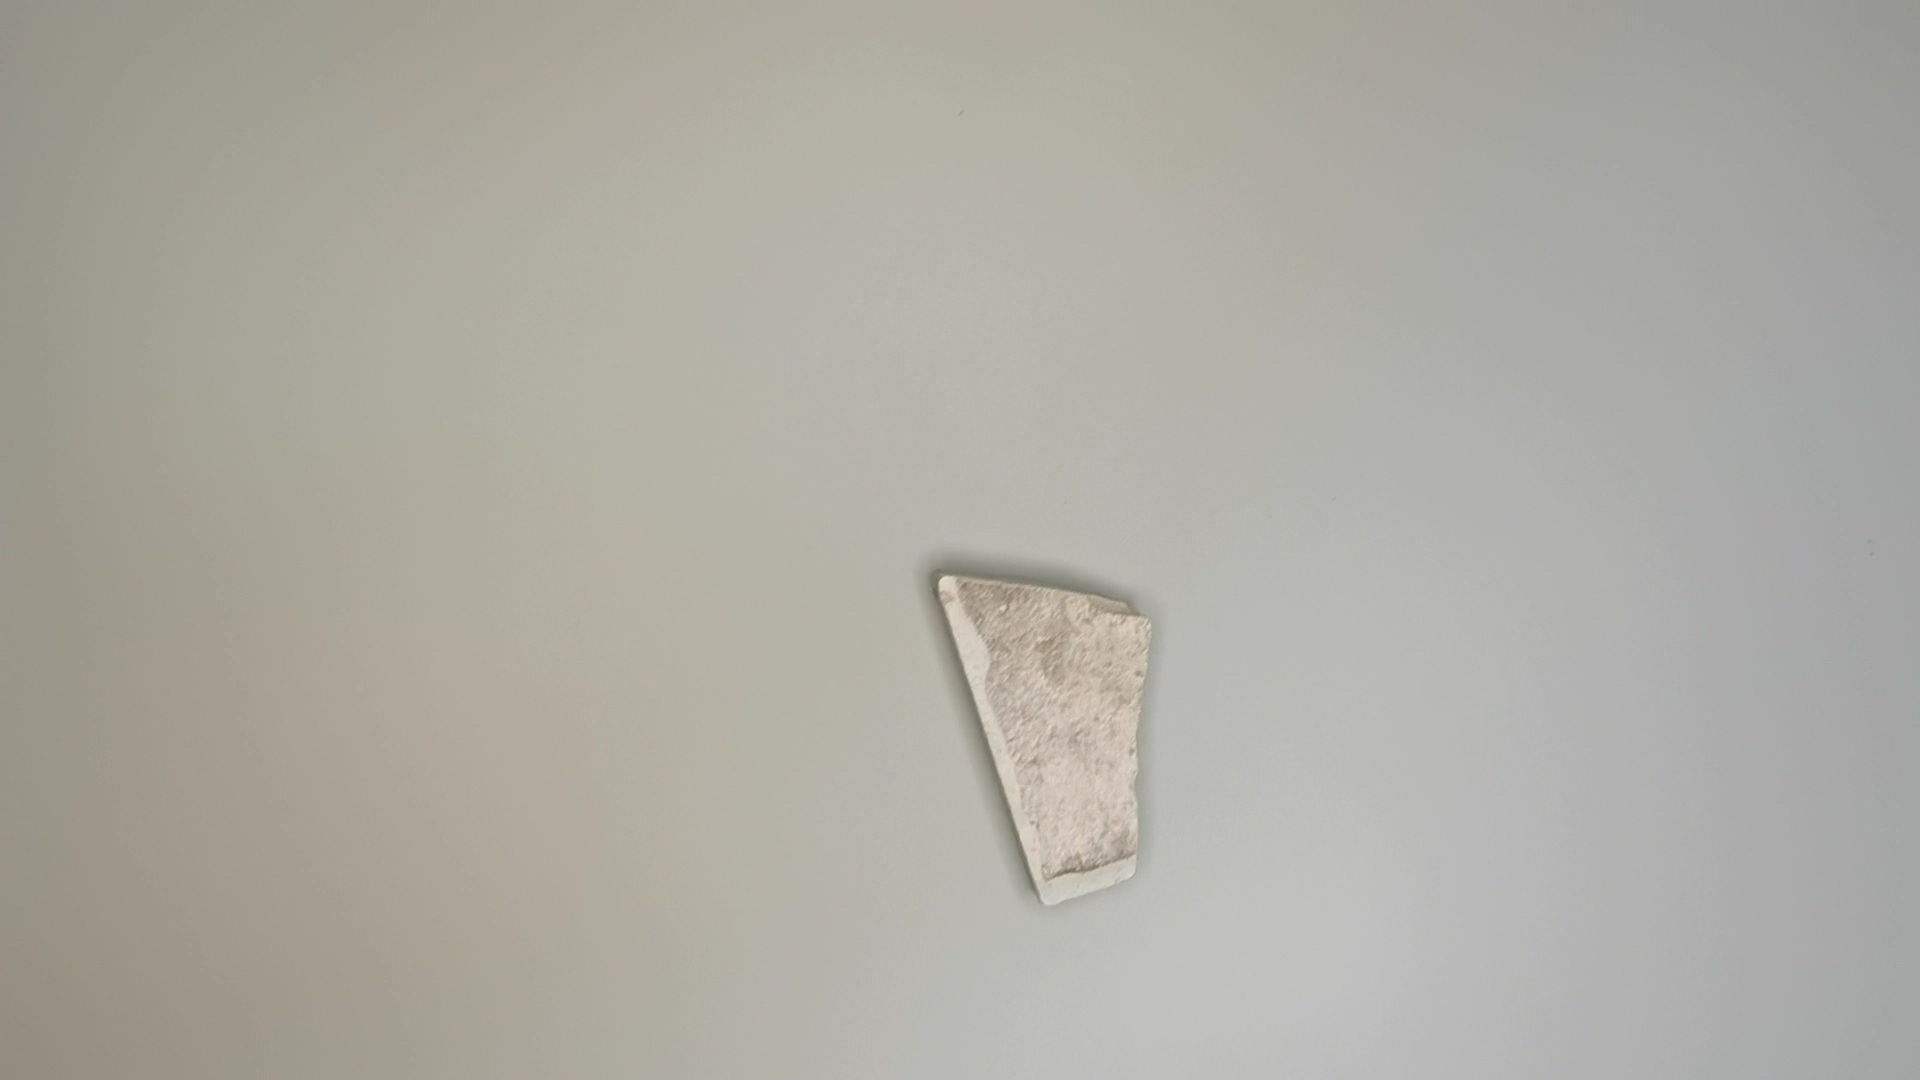ceramic: (926, 564, 1168, 906)
